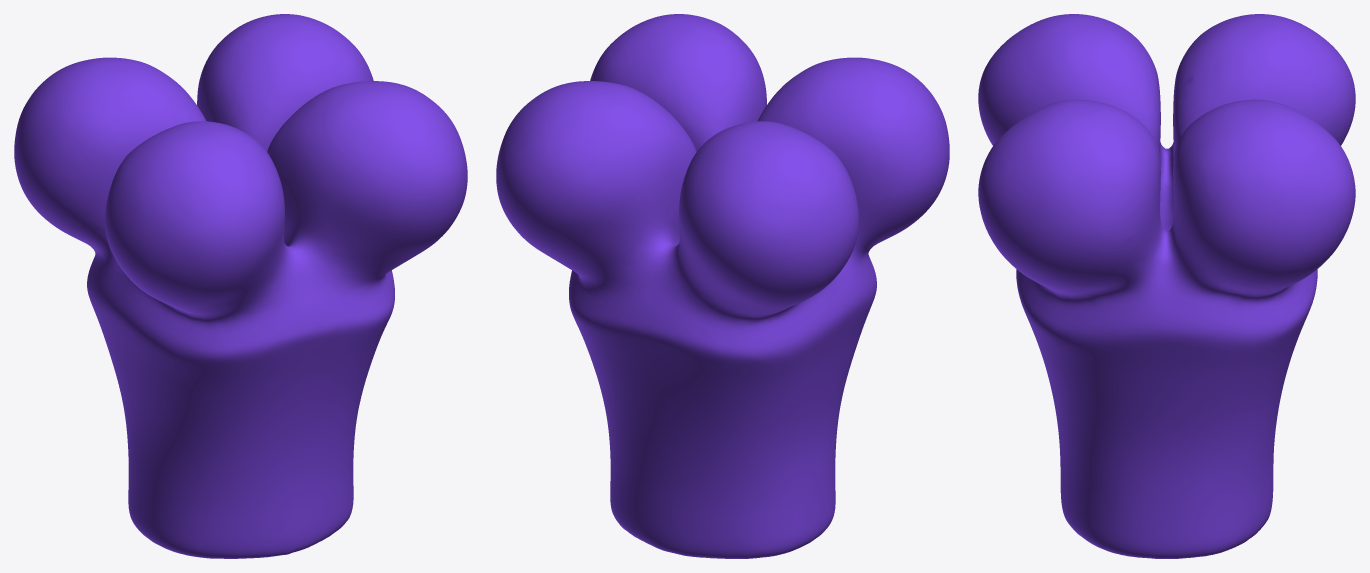
File: gated_uvUnwrapped.fbx
3 views of the same model, side by side, from view 1: azimuth 30°, elevation 25°; view 2: azimuth 150°, elevation 25°; view 3: azimuth 270°, elevation 25° (orthographic).
Parts seen in each view (by area): view 1: Cell_gated; view 2: Cell_gated; view 3: Cell_gated.
Part boxes in pixels (<box>): Cell_gated: <box>14,14,467,558</box>; Cell_gated: <box>496,14,949,558</box>; Cell_gated: <box>978,14,1355,558</box>.
Bounding box in the file's own units: 7.16 × 8.89 × 6.79.
